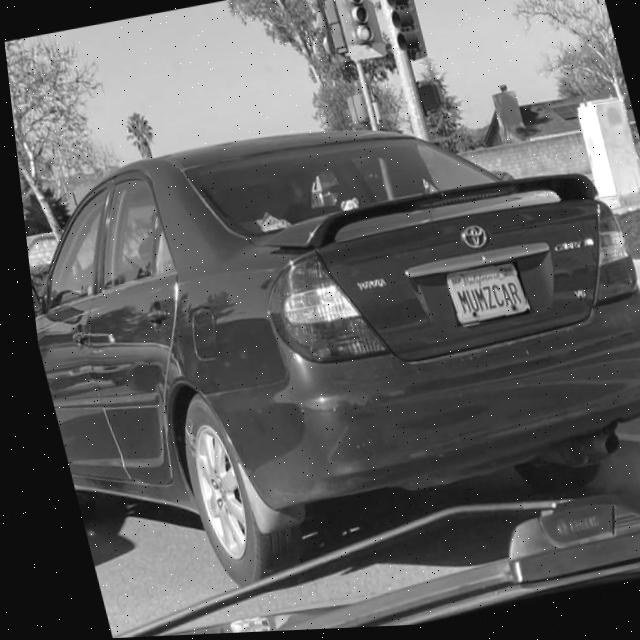LicensePlate: (439, 268, 522, 330)
